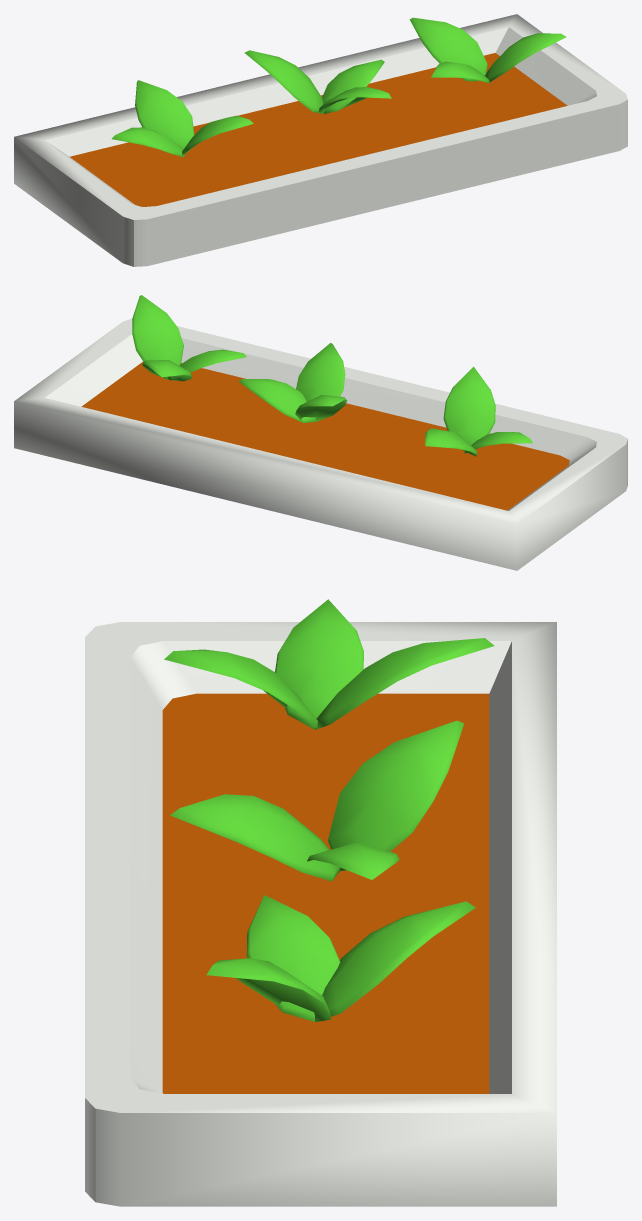
File: TreeTub2.fbx
The picture shows the model from 3 angles, top to bottom: view 1: azimuth 30°, elevation 25°; view 2: azimuth 150°, elevation 25°; view 3: azimuth 270°, elevation 25°; orthographic projection. The views are drawn at different scales.
Parts seen in each view (by area): view 1: TreeTub.003; view 2: TreeTub.003; view 3: TreeTub.003.
Boxes of the visible parts, box(x1,y1,x2,y2) form: TreeTub.003: box(14, 14, 627, 266); TreeTub.003: box(14, 295, 627, 570); TreeTub.003: box(85, 599, 556, 1206).
Bounding box in the file's own units: 400 × 76.19 × 162.
1 material, 1 textured.
